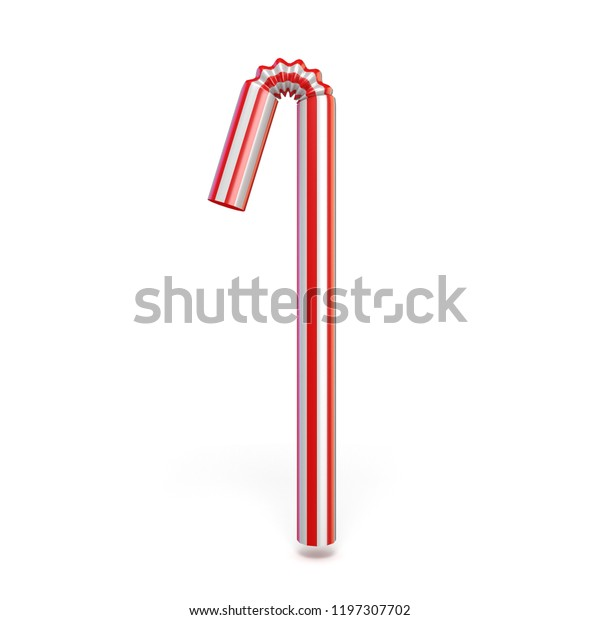Drinking Straw: (203, 56, 348, 558)
